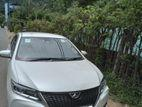car: (0, 30, 109, 107)
